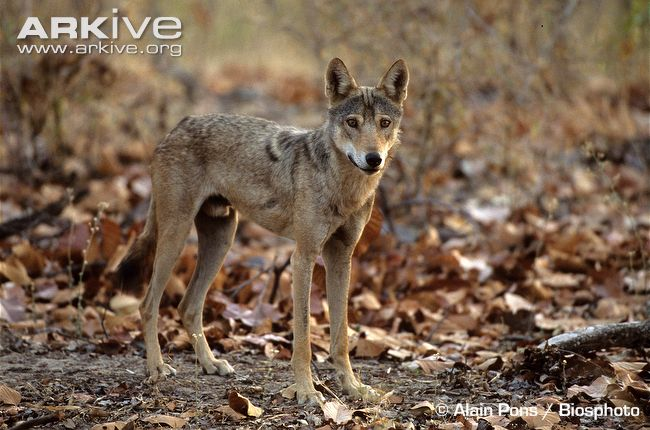wolf: (124, 57, 409, 397)
